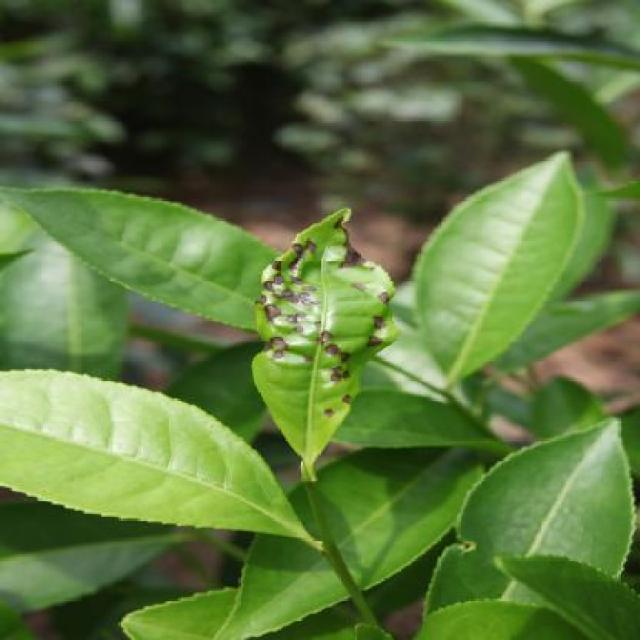Tea Mosquito bug infested leaf: (238, 202, 400, 478)
